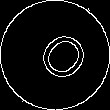O_SW: (22, 22, 88, 88)
